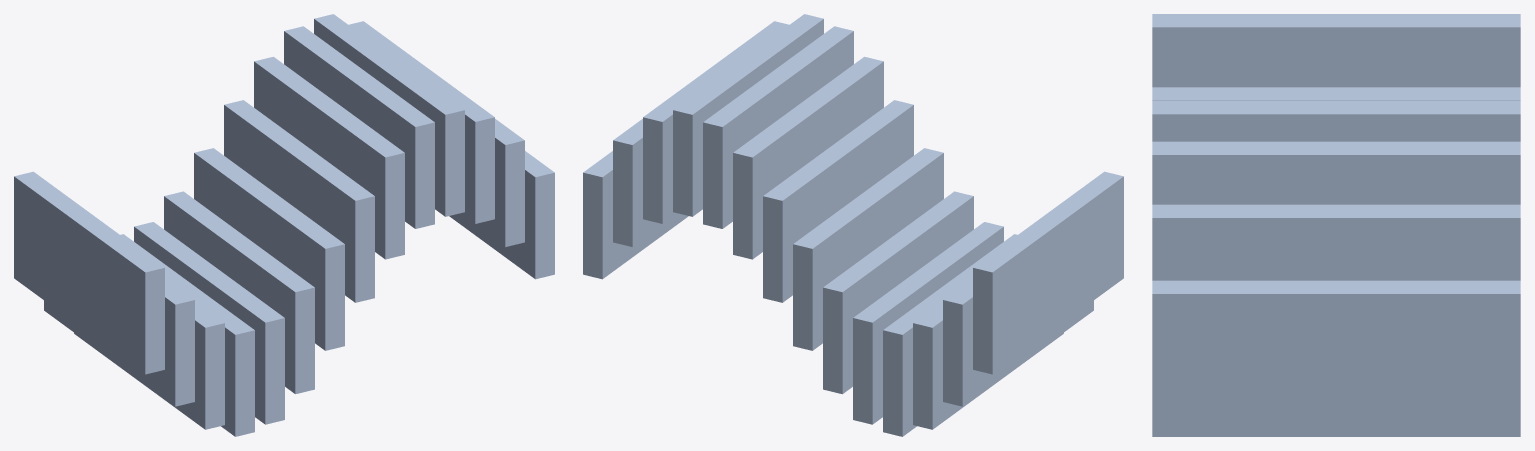
The model's file is helix-reveal.glb.
The picture shows the model from 3 angles, left to right: view 1: azimuth 30°, elevation 25°; view 2: azimuth 150°, elevation 25°; view 3: azimuth 270°, elevation 25°; orthographic projection. The views are drawn at different scales.
Parts seen in each view (by area): view 1: world; view 2: world; view 3: world.
Boxes of the visible parts, <box> form: world: <box>14,14,554,436</box>; world: <box>583,14,1123,436</box>; world: <box>1152,14,1520,436</box>.
Bounding box in the file's own units: 2 × 1.26 × 1.11.
1 material, 1 textured.
